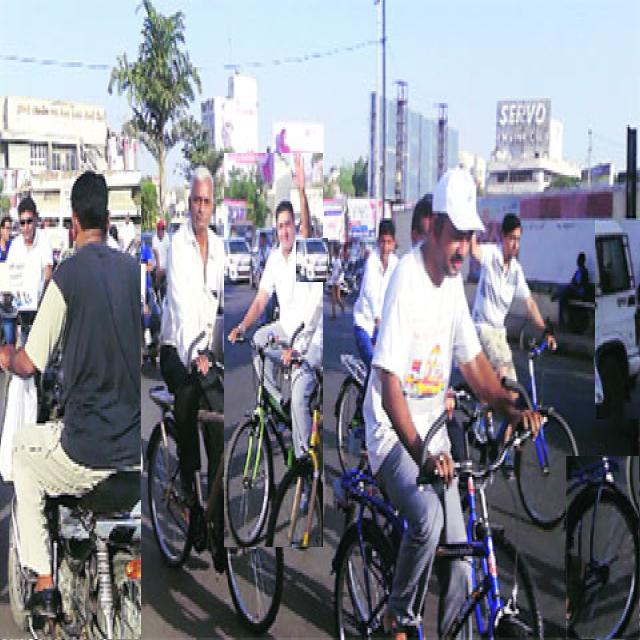bicycle: (334, 171, 549, 638), (145, 169, 284, 633), (225, 153, 323, 547), (470, 213, 579, 534), (335, 218, 399, 470), (566, 456, 640, 640)
car: (595, 220, 640, 419), (297, 238, 328, 282)
motorcycle: (0, 171, 141, 639)
